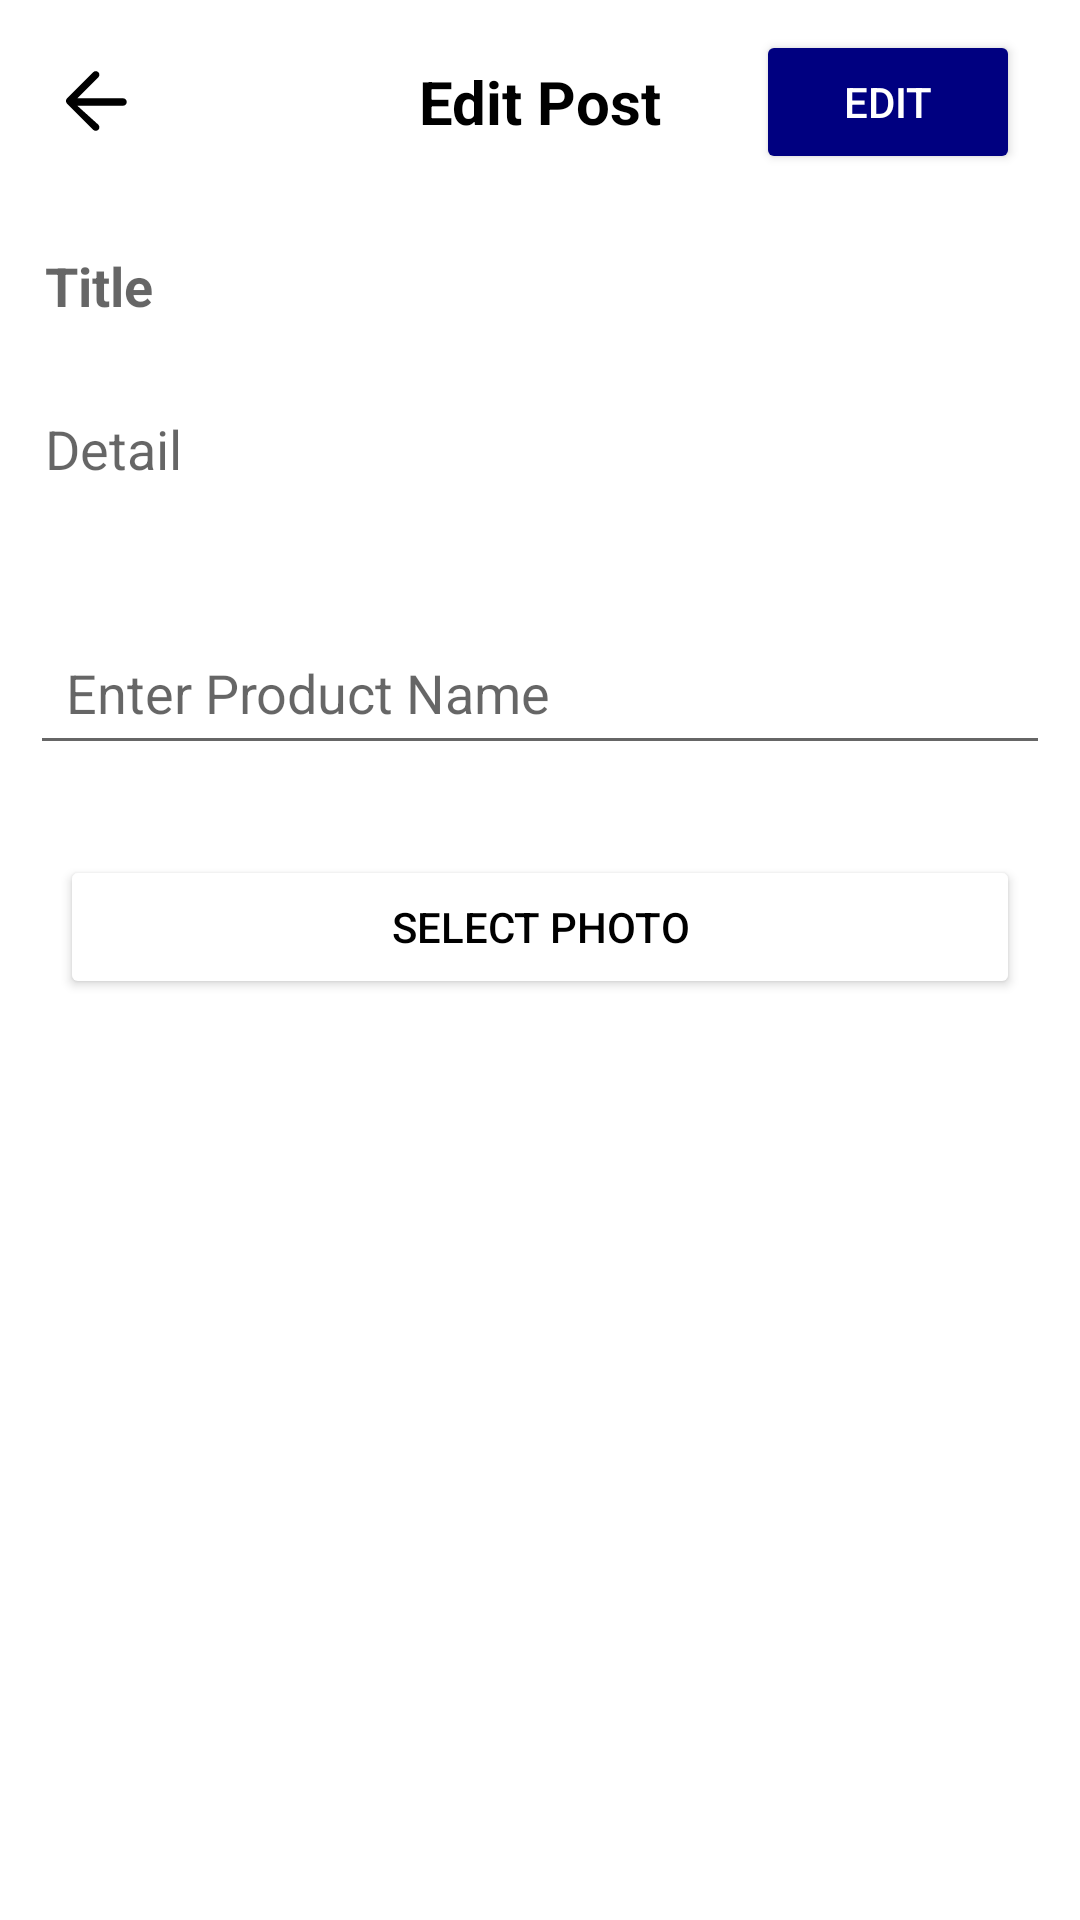

Locate icon controls on the screen. Image size 1080 x 1920, boxes as (x1, y1, x2, y2).
arrow back: (66, 71, 127, 131)
